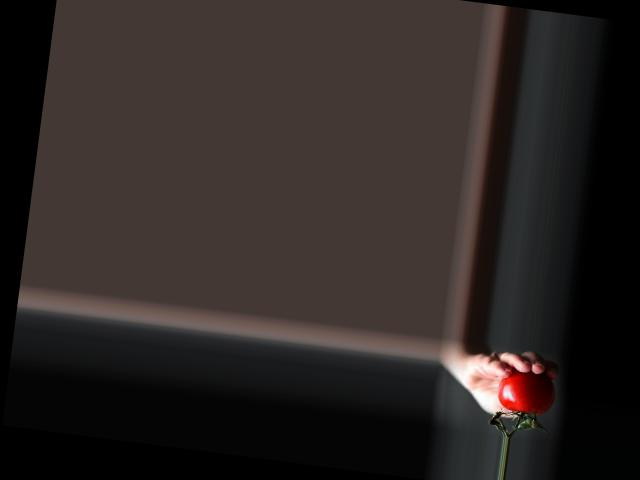tomato: (495, 366, 557, 417)
